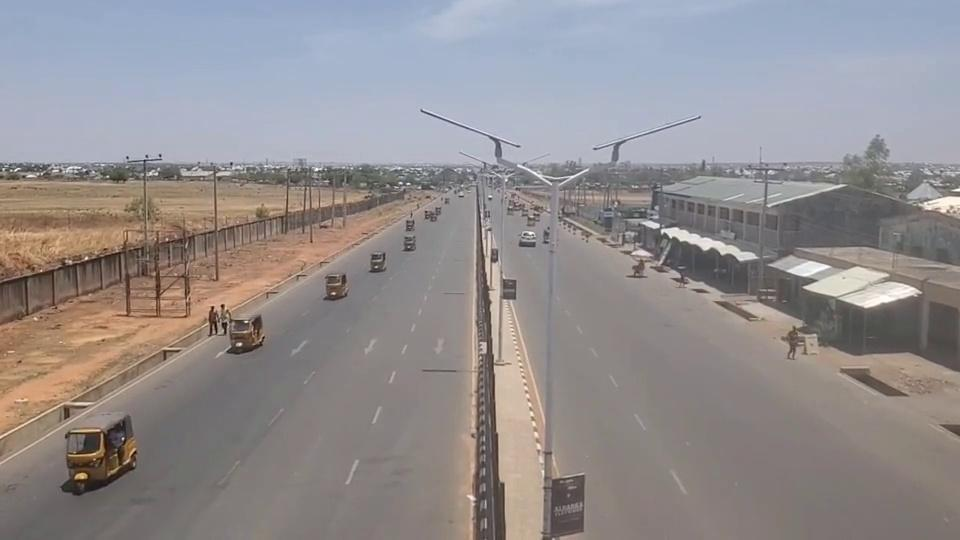keke: (63, 411, 137, 494), (227, 312, 264, 352), (324, 272, 348, 299)
